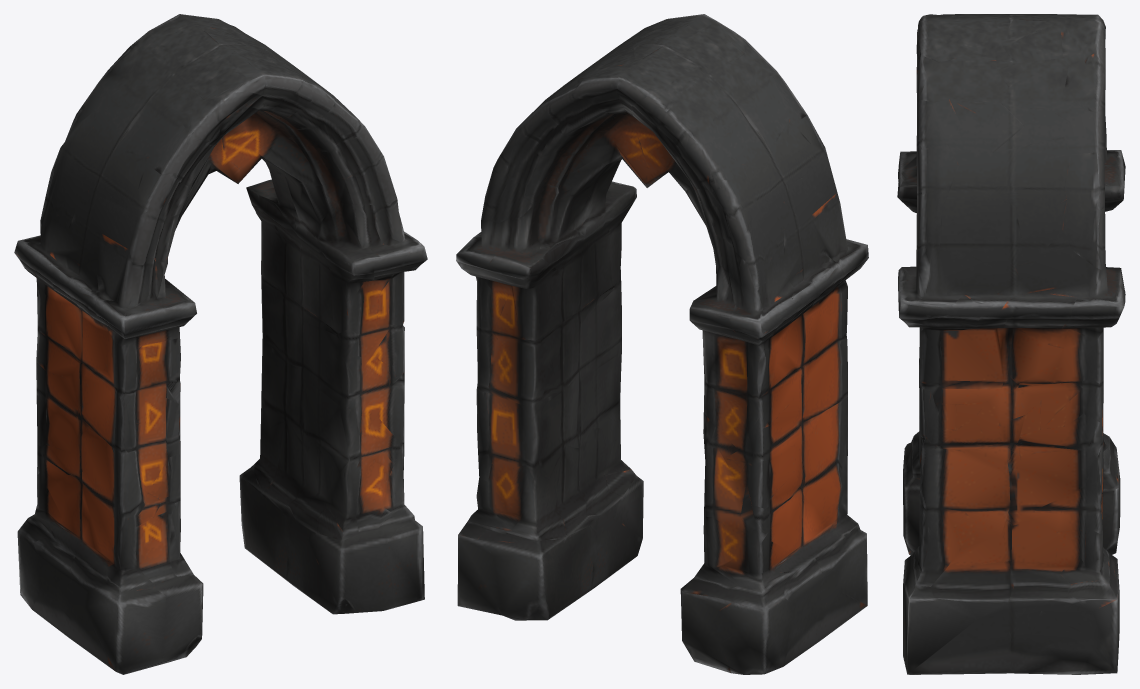
File: doorway_archway_runic.glb
3 views of the same model, side by side, from view 1: azimuth 30°, elevation 25°; view 2: azimuth 150°, elevation 25°; view 3: azimuth 270°, elevation 25° (orthographic). The views are drawn at different scales.
Size of the model in its own units: 1.16 by 2 by 0.714.
1 material, 1 textured.
